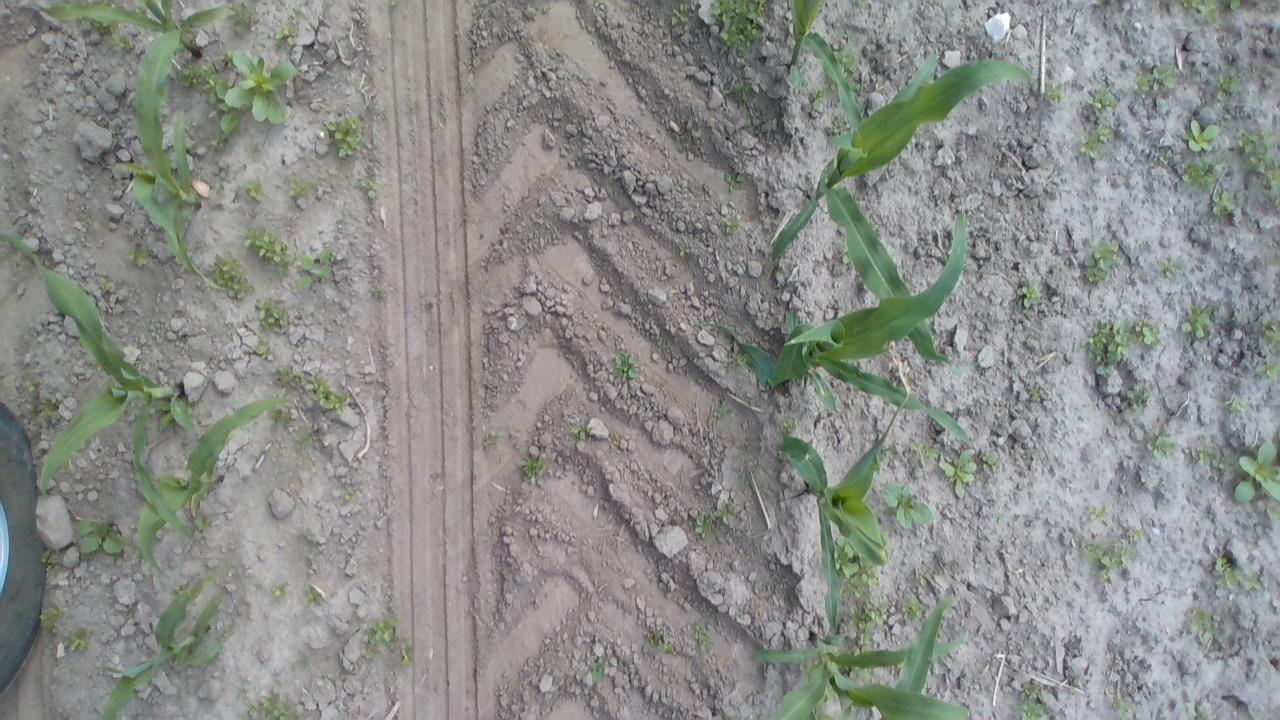Maize: (772, 54, 1034, 365), (698, 206, 972, 448), (0, 233, 195, 540), (108, 22, 225, 290), (134, 395, 292, 576), (774, 430, 889, 635), (748, 632, 969, 720), (98, 565, 222, 720), (39, 0, 228, 61), (788, 0, 864, 130), (898, 591, 952, 693)
Weeds: (224, 49, 298, 124), (1087, 314, 1132, 382), (710, 0, 766, 54), (1232, 127, 1279, 190), (1233, 441, 1279, 503), (836, 534, 879, 599), (880, 480, 934, 529), (1078, 539, 1135, 585), (242, 226, 291, 273), (936, 447, 978, 501), (208, 254, 256, 298), (1213, 550, 1263, 592), (304, 369, 349, 414), (1179, 152, 1228, 193), (1082, 233, 1120, 285), (74, 518, 125, 556), (208, 77, 240, 136), (362, 616, 398, 668), (849, 596, 886, 644), (324, 114, 362, 160), (1074, 118, 1113, 160), (296, 248, 334, 288), (246, 695, 306, 720), (1186, 605, 1220, 649), (1010, 680, 1044, 720), (1182, 116, 1218, 152), (226, 1, 260, 36), (1215, 64, 1242, 106), (1180, 305, 1214, 338), (610, 346, 638, 386), (254, 295, 284, 332), (178, 63, 216, 90), (1084, 85, 1116, 117), (274, 364, 304, 397), (909, 436, 939, 469), (1146, 426, 1175, 460), (684, 620, 712, 654), (516, 454, 544, 486), (1015, 277, 1042, 310), (1181, 0, 1218, 23), (641, 630, 675, 655), (1133, 318, 1161, 348), (580, 650, 606, 682), (670, 119, 694, 153), (1190, 438, 1218, 467), (1126, 382, 1152, 411), (729, 82, 755, 108), (722, 168, 747, 195), (1211, 190, 1235, 218), (268, 408, 292, 436), (63, 627, 89, 652), (1152, 62, 1175, 90), (736, 434, 758, 463), (126, 242, 151, 267), (38, 605, 62, 631), (728, 119, 755, 142), (1260, 317, 1280, 348), (1156, 256, 1184, 278), (693, 512, 715, 540), (713, 498, 736, 524), (272, 21, 295, 46), (836, 46, 856, 74), (1111, 695, 1133, 720), (1254, 360, 1280, 381), (110, 29, 133, 52), (1130, 70, 1152, 94), (724, 352, 750, 372), (902, 596, 922, 622), (808, 82, 826, 110), (482, 428, 502, 453), (1086, 505, 1108, 527), (670, 0, 689, 25), (244, 177, 262, 203), (37, 397, 59, 418), (1042, 81, 1064, 102), (845, 667, 871, 684), (289, 176, 309, 198), (294, 433, 316, 452), (1223, 395, 1245, 413), (570, 422, 593, 439), (302, 585, 320, 606), (980, 448, 996, 471), (252, 338, 271, 357), (194, 513, 214, 531), (724, 212, 740, 234), (399, 640, 413, 664), (295, 648, 311, 669), (361, 179, 376, 200), (608, 431, 622, 452), (840, 237, 850, 265), (798, 660, 812, 680), (1127, 526, 1144, 542), (92, 22, 119, 32), (828, 118, 846, 133), (272, 580, 288, 596), (712, 400, 726, 418), (1221, 0, 1242, 12), (782, 417, 797, 433), (97, 278, 111, 295), (154, 287, 168, 304), (916, 568, 930, 585), (221, 50, 235, 66), (1265, 506, 1279, 522), (678, 242, 692, 258), (736, 468, 750, 484), (1028, 384, 1042, 400), (1068, 678, 1080, 696), (848, 646, 869, 656), (210, 138, 228, 149), (1160, 150, 1172, 166), (40, 549, 51, 566), (1219, 456, 1231, 470), (25, 378, 39, 390), (842, 28, 856, 40), (886, 443, 898, 456), (369, 286, 383, 297), (850, 81, 861, 95), (173, 585, 188, 595), (646, 573, 656, 588), (1196, 709, 1209, 720), (344, 487, 354, 501), (250, 142, 260, 153), (292, 7, 302, 18), (997, 514, 1007, 524), (1024, 449, 1035, 458), (1272, 198, 1280, 210), (220, 624, 232, 632), (409, 102, 418, 110), (830, 81, 837, 91), (26, 404, 34, 412), (1040, 164, 1048, 172), (92, 1, 110, 4), (856, 0, 864, 6), (724, 716, 732, 720)
